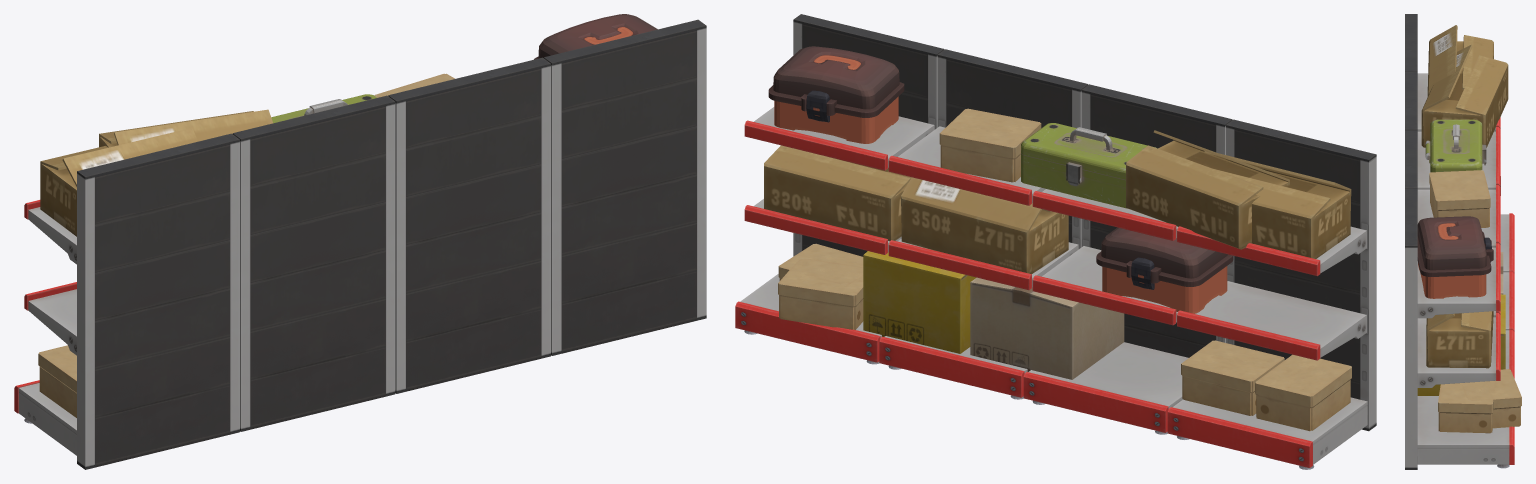
Rendered from Market_09.obj.
3 views of the same model, side by side, from view 1: azimuth 30°, elevation 25°; view 2: azimuth 150°, elevation 25°; view 3: azimuth 270°, elevation 25° (orthographic). The views are drawn at different scales.
Bounding box in the file's own units: 3.99 × 1.8 × 0.849.
18 materials, 18 textured.
